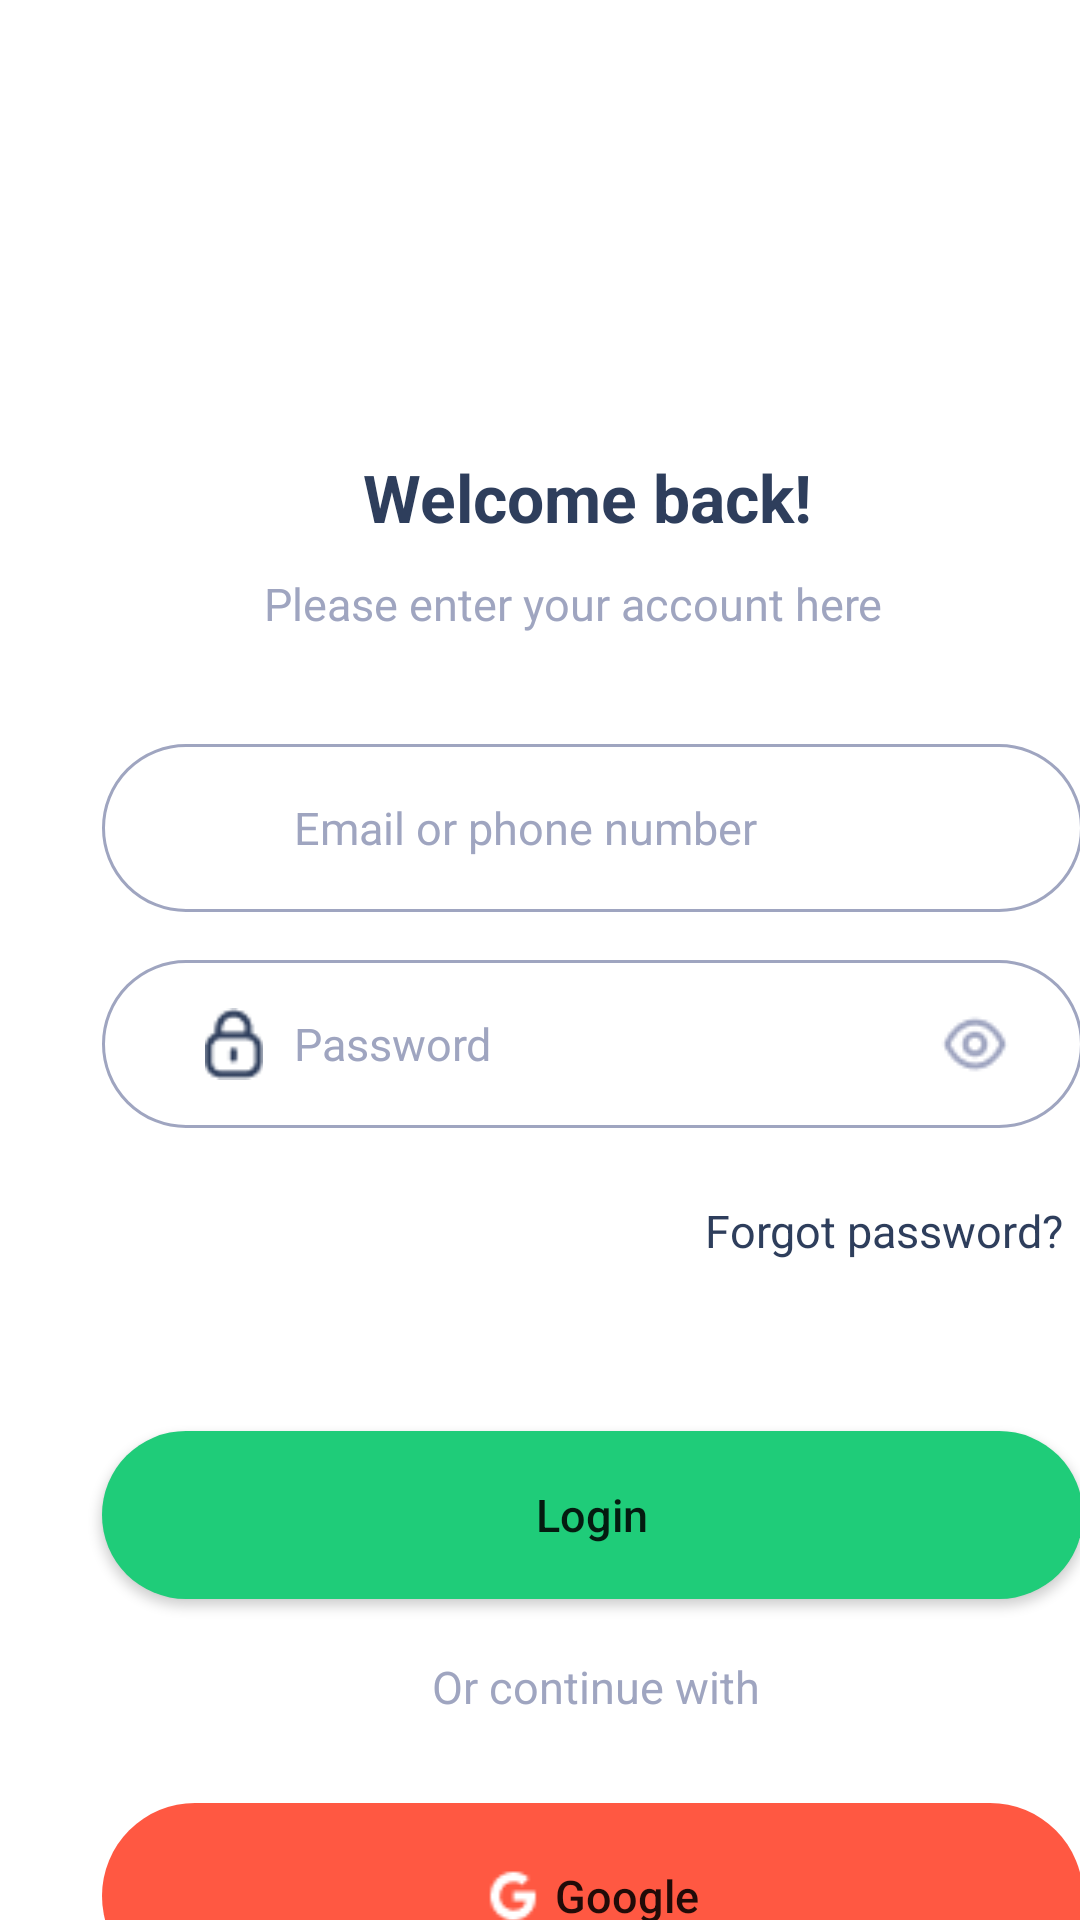

Icons on this 1080 x 1920 Android screen, each with its box as {"left": x1, "top": y1, "right": x2, "bottom": y2}:
lock: {"left": 205, "top": 1008, "right": 263, "bottom": 1080}
open eye: {"left": 944, "top": 1019, "right": 1006, "bottom": 1070}
